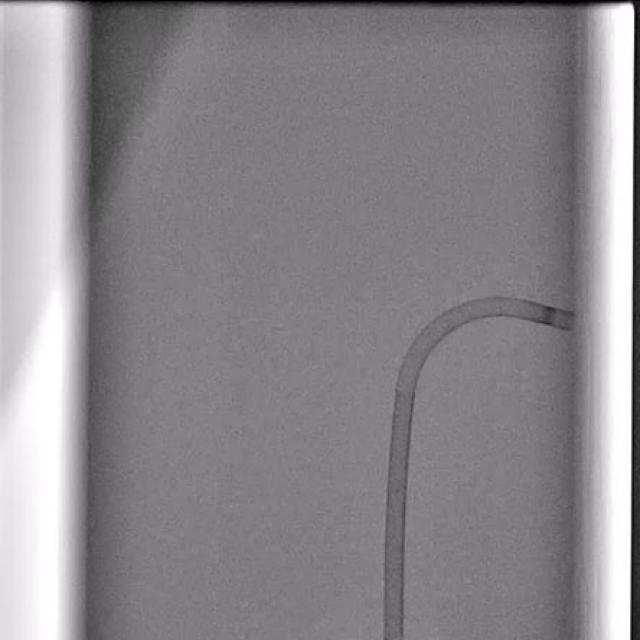bend: (397, 381, 417, 396)
entry: (384, 630, 404, 640)
marker: (541, 308, 555, 326)
tip: (564, 313, 573, 331)
